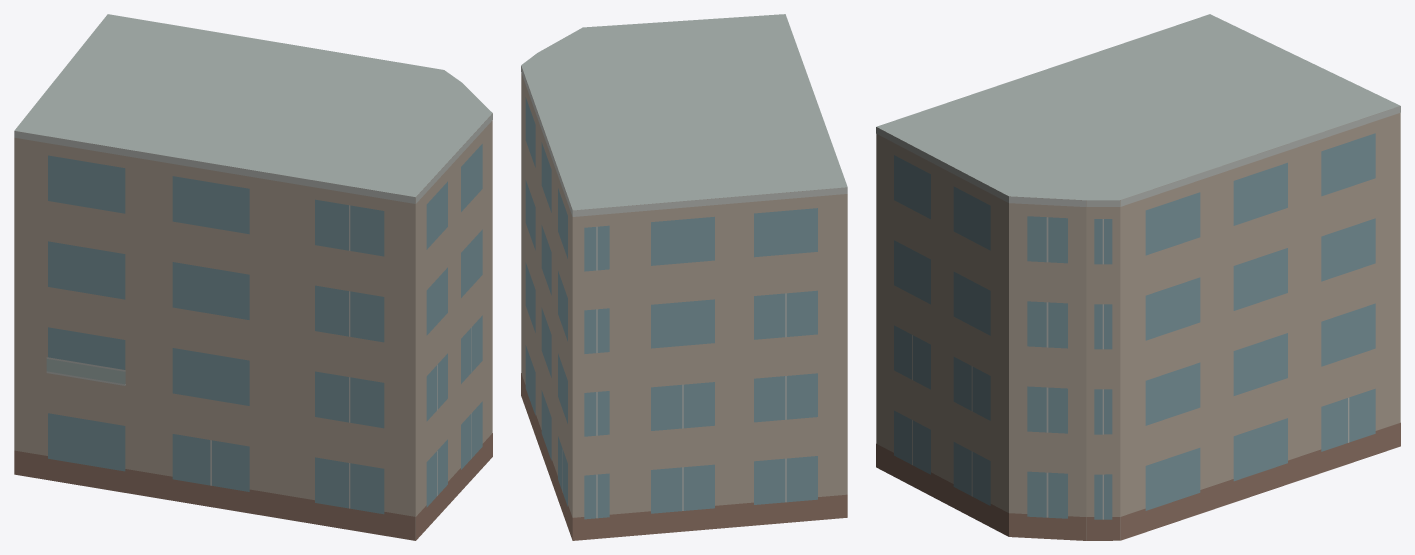
The model's file is survey-upis-32843178.glb.
3 views of the same model, side by side, from view 1: azimuth 30°, elevation 25°; view 2: azimuth 150°, elevation 25°; view 3: azimuth 270°, elevation 25° (orthographic). The views are drawn at different scales.
Parts seen in each view (by area): view 1: survey-upis-32843178.tmp; view 2: survey-upis-32843178.tmp; view 3: survey-upis-32843178.tmp.
Part boxes in pixels (x1,y1,x2,y2): survey-upis-32843178.tmp: (14,14,492,540); survey-upis-32843178.tmp: (521,14,847,540); survey-upis-32843178.tmp: (876,14,1400,540).
Bounding box in the file's own units: 14.32 × 12.2 × 17.04.
